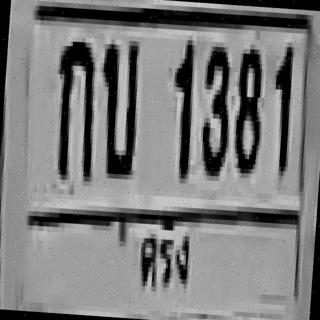A01: (50, 36, 99, 177)
A26: (94, 34, 140, 175)
N01: (166, 36, 194, 176), (268, 41, 294, 171)
N03: (197, 41, 232, 172)
N08: (231, 44, 264, 169)
P70: (129, 209, 200, 302)
